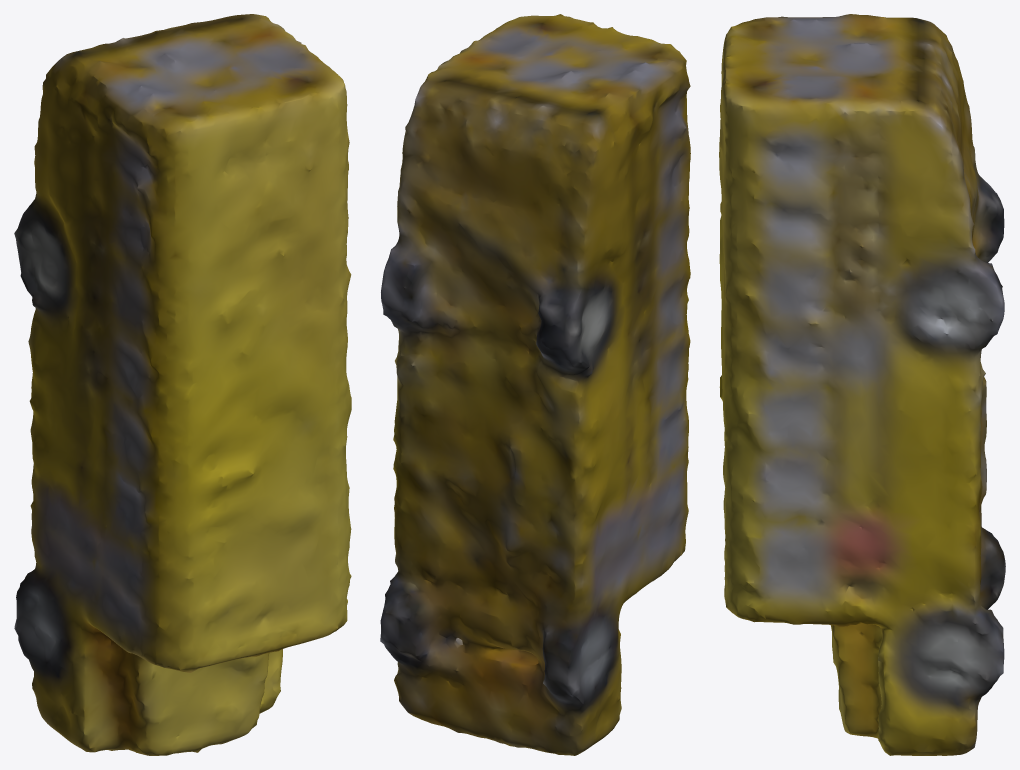
The model's file is school_bus1.glb.
The picture shows the model from 3 angles, left to right: view 1: azimuth 30°, elevation 25°; view 2: azimuth 150°, elevation 25°; view 3: azimuth 270°, elevation 25°; orthographic projection. The views are drawn at different scales.
Bounding box in the file's own units: 0.3266 × 0.9979 × 0.3885.
